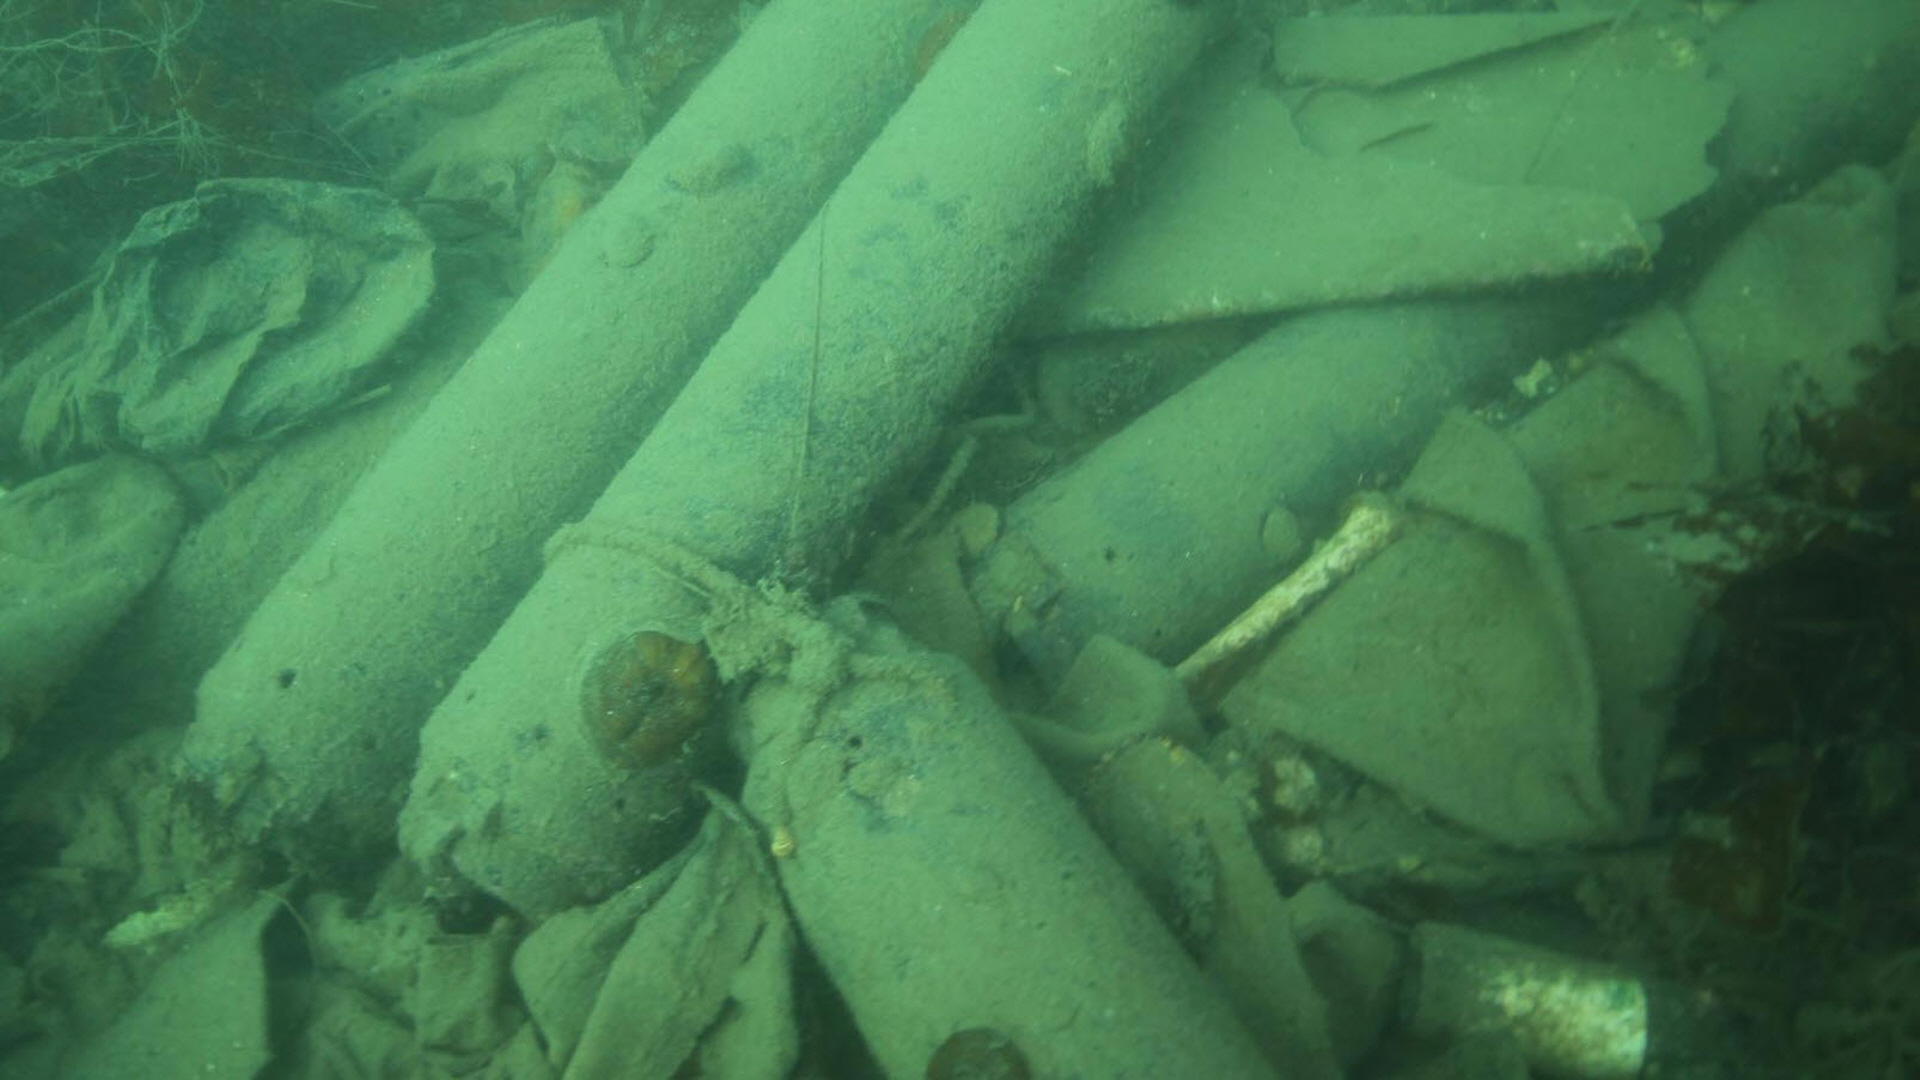bundle of ropes: (526, 501, 967, 855)
eel fish trap: (393, 0, 1222, 920), (171, 0, 988, 895), (731, 597, 1294, 1080)
other objects: (1156, 20, 1782, 939)
